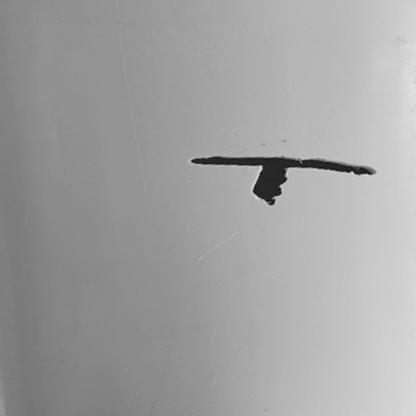fengxi: (184, 153, 376, 178)
kongdong: (252, 166, 291, 207)
